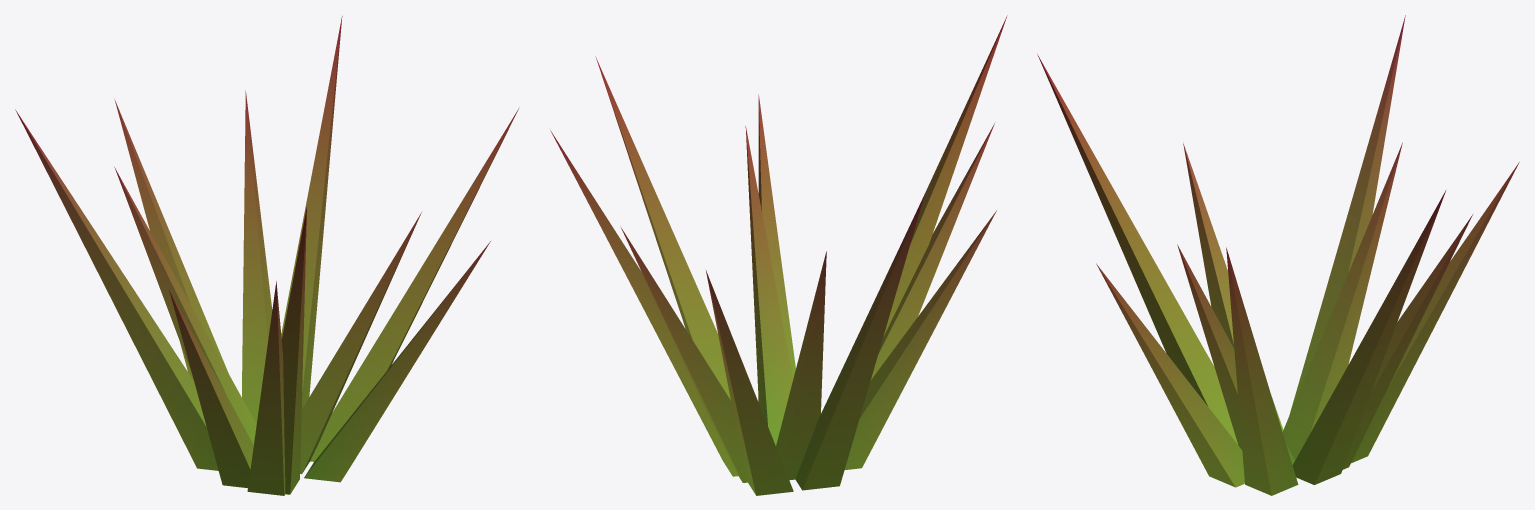
File: Desert_GrassTuft_01.glb
The picture shows the model from 3 angles, left to right: view 1: azimuth 30°, elevation 25°; view 2: azimuth 150°, elevation 25°; view 3: azimuth 270°, elevation 25°; orthographic projection. The views are drawn at different scales.
Visible parts, largest first — view 1: Desert_GrassTuft_01; view 2: Desert_GrassTuft_01; view 3: Desert_GrassTuft_01.
Boxes of the visible parts, box(x1,y1,x2,y2) form: Desert_GrassTuft_01: box(15, 16, 518, 495); Desert_GrassTuft_01: box(550, 15, 1007, 495); Desert_GrassTuft_01: box(1037, 15, 1519, 495).
Size of the model in its own units: 0.5333 by 0.4539 by 0.5446.
